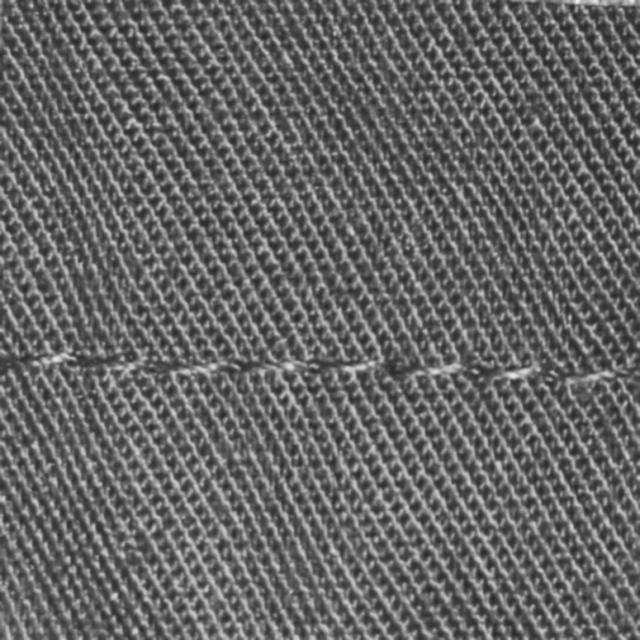stitch: (144, 360, 255, 376), (0, 353, 76, 372), (546, 365, 621, 384), (236, 359, 334, 373), (62, 361, 150, 376), (389, 363, 465, 380), (468, 364, 542, 380), (309, 359, 385, 374)
